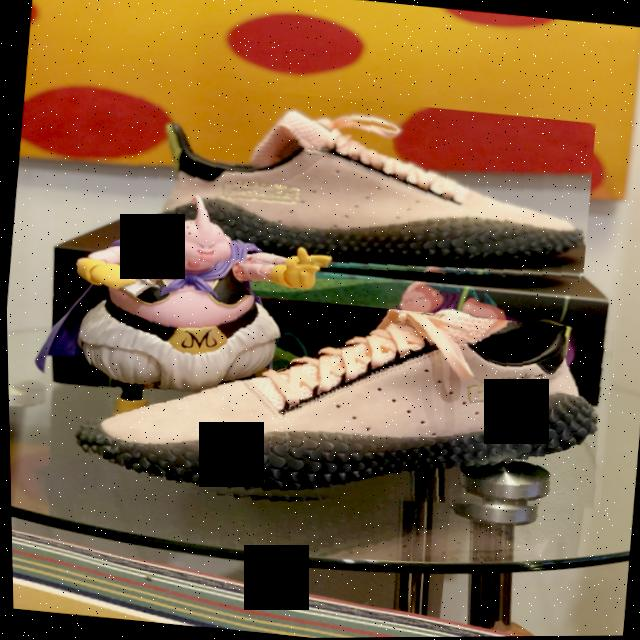shoe: (70, 276, 616, 543), (110, 75, 598, 306)
